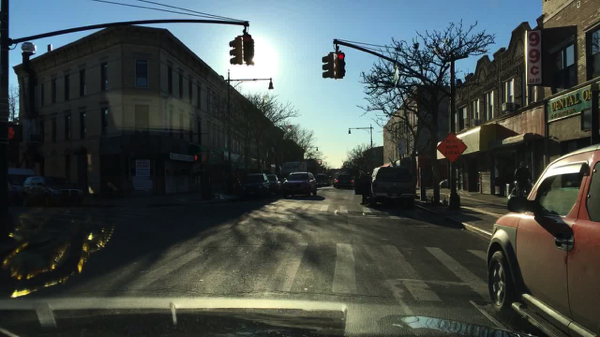car: (486, 143, 600, 336), (356, 166, 417, 208), (22, 176, 88, 207), (279, 170, 317, 197), (236, 171, 272, 198), (6, 167, 32, 201), (333, 174, 353, 189), (267, 173, 280, 191), (315, 173, 329, 186)
person: (514, 161, 532, 198), (359, 173, 371, 205)
traffic light: (228, 36, 243, 66), (333, 51, 345, 79), (321, 51, 333, 78), (6, 125, 24, 142), (242, 32, 251, 60), (193, 154, 202, 161)
traffic sign: (437, 132, 467, 163)
truck: (280, 161, 307, 178)
